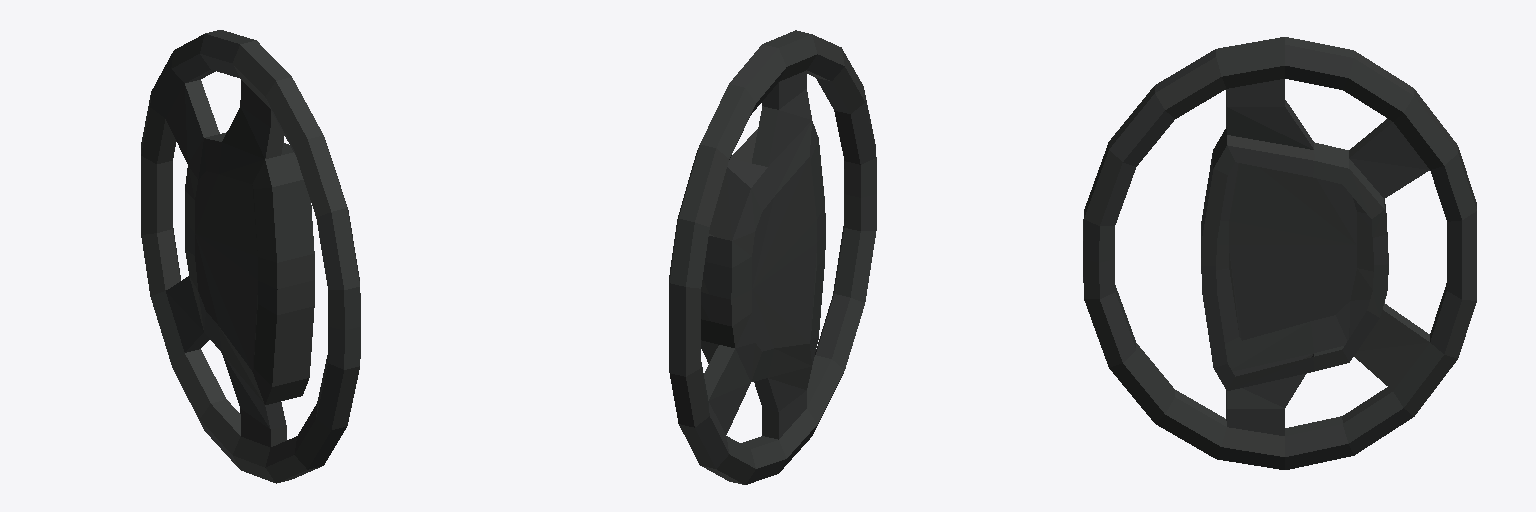
Rendered from model_steeringWheel.obj.
The picture shows the model from 3 angles: view 1: azimuth 30°, elevation 25°; view 2: azimuth 150°, elevation 25°; view 3: azimuth 270°, elevation 25°; orthographic projection.
Visible parts, largest first — view 1: model_steeringWheel; view 2: model_steeringWheel; view 3: model_steeringWheel.
Part boxes in pixels (left/top/right/bottom): model_steeringWheel: left=141, top=30, right=360, bottom=483; model_steeringWheel: left=669, top=30, right=876, bottom=484; model_steeringWheel: left=1083, top=37, right=1476, bottom=469.
Size of the model in its own units: 0.0517 by 0.4377 by 0.367.